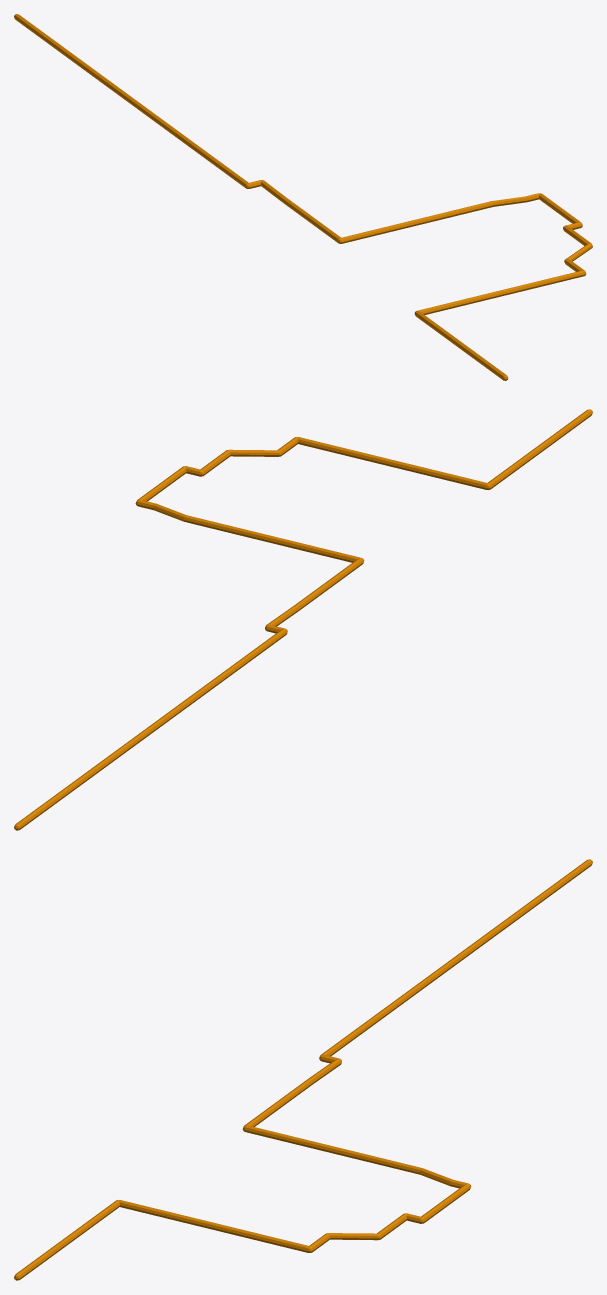
The picture shows the model from 3 angles, top to bottom: view 1: azimuth 30°, elevation 25°; view 2: azimuth 150°, elevation 25°; view 3: azimuth 330°, elevation 25°; orthographic projection. The views are drawn at different scales.
Size of the model in its own units: 789 by 20 by 3105.
